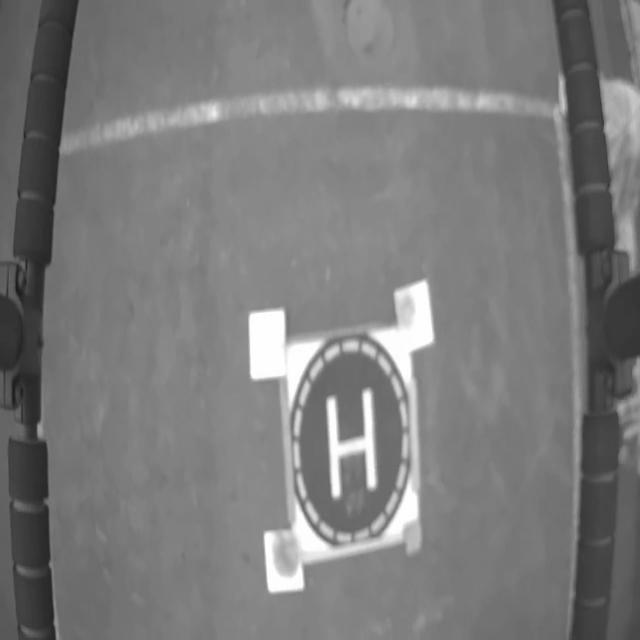Helipad: (326, 386, 378, 504)
